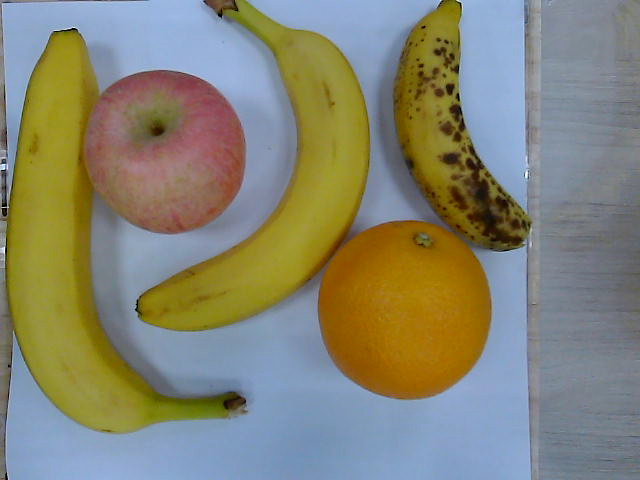fresh_apple: (81, 69, 246, 235)
fresh_banana: (140, 1, 371, 335), (6, 27, 163, 436)
fresh_orange: (318, 219, 492, 400)
rotten_banana: (394, 1, 531, 249)
